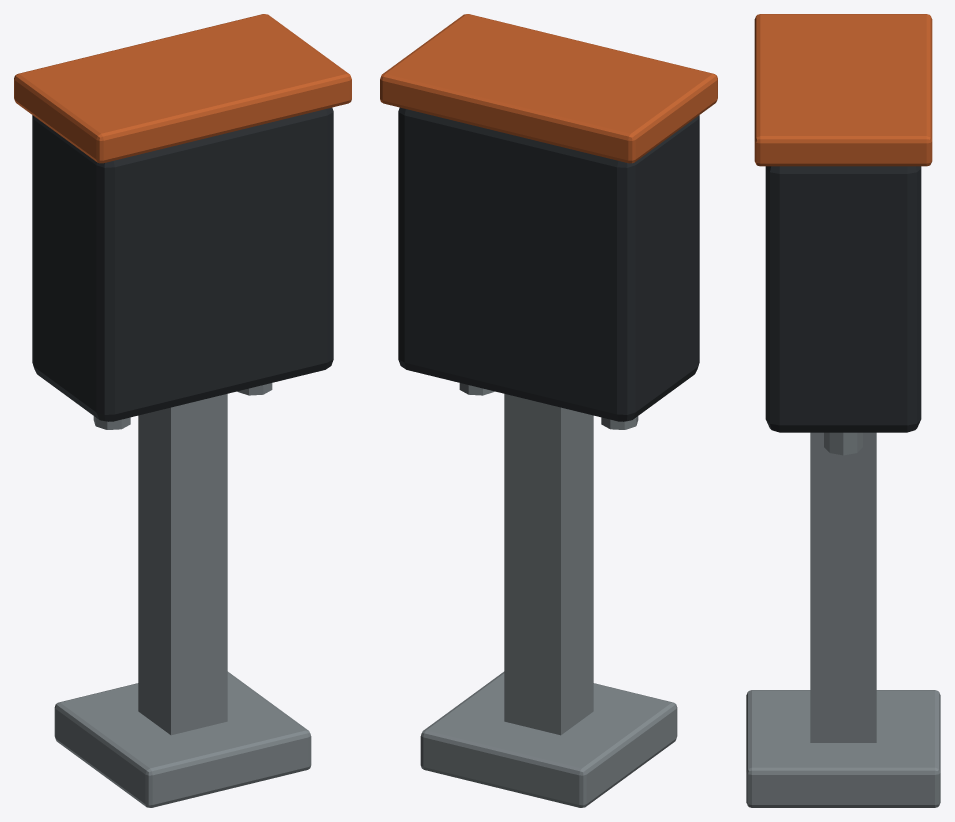
The model's file is prop_junction.glb.
The picture shows the model from 3 angles, left to right: view 1: azimuth 30°, elevation 25°; view 2: azimuth 150°, elevation 25°; view 3: azimuth 270°, elevation 25°; orthographic projection.
Parts seen in each view (by area): view 1: Junction_mesh; view 2: Junction_mesh; view 3: Junction_mesh.
Part boxes in pixels (x1=…): Junction_mesh: x1=14, y1=14, x2=351, y2=807; Junction_mesh: x1=380, y1=14, x2=717, y2=807; Junction_mesh: x1=746, y1=14, x2=940, y2=807.
Size of the model in its own units: 0.54 by 1.38 by 0.35.
